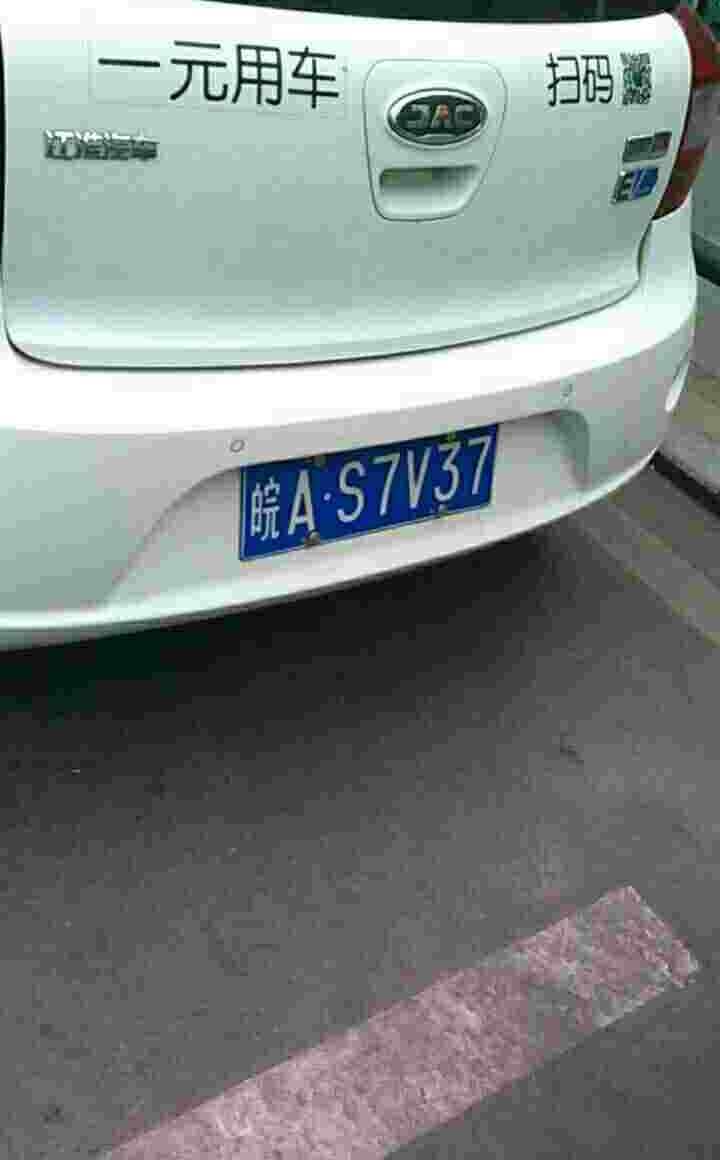license_plate: (244, 420, 510, 560)
